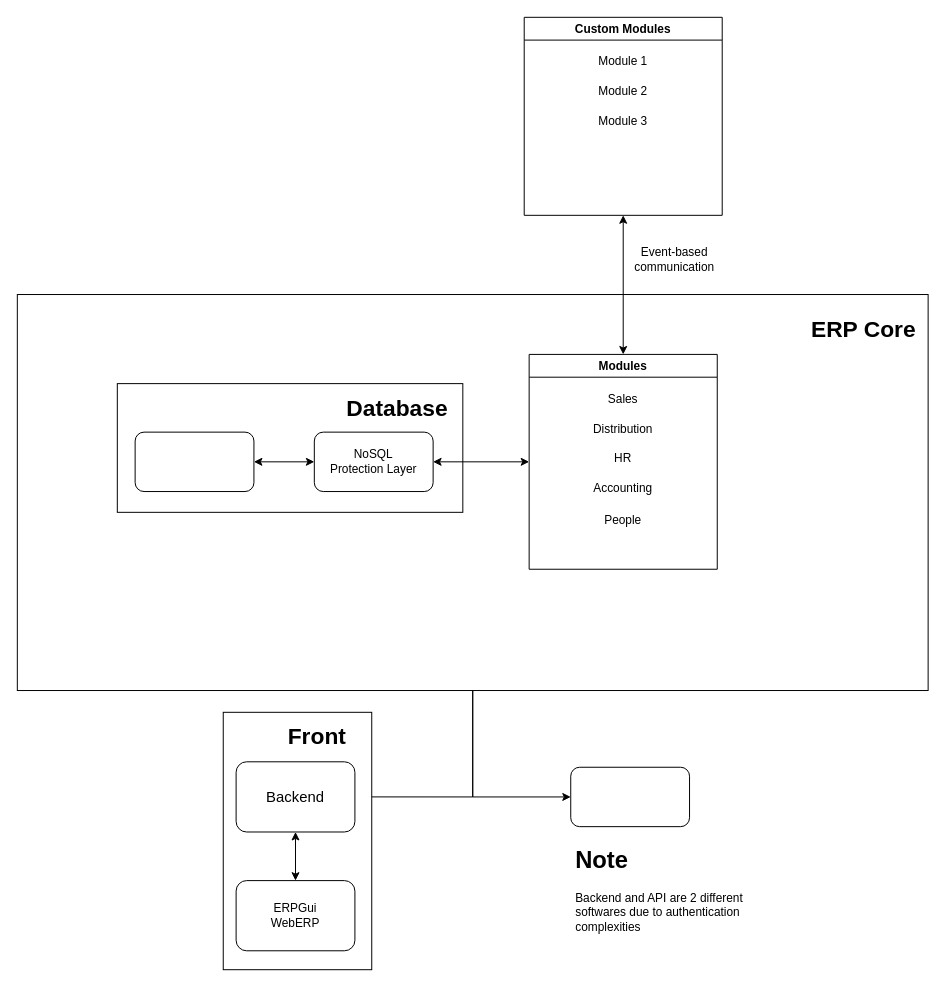
Some shapes in this 945 by 987 pixel diagram are drawn without their labels. The centre of each missing label's shape, as x and y in pixels:
API: point (630, 796)
MongoDB: point (194, 461)
